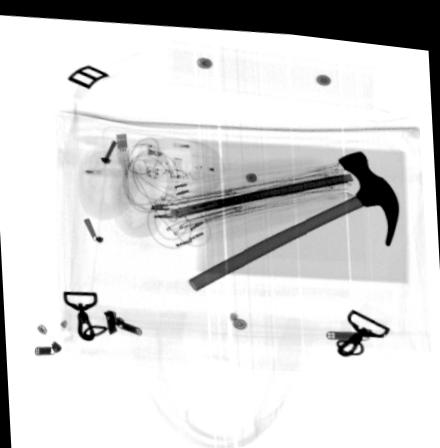Hammer: (186, 141, 400, 288)
